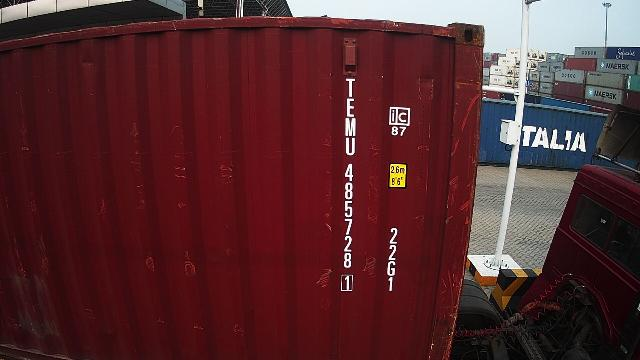1: (342, 275, 352, 291)
2: (343, 236, 352, 253)
4: (344, 162, 356, 182)
5: (344, 200, 354, 218)
7: (344, 218, 354, 236)
8: (344, 182, 354, 200), (343, 252, 352, 270)
E: (346, 98, 356, 116)
M: (344, 118, 356, 137)
T: (345, 77, 355, 97)
U: (345, 137, 355, 155)
